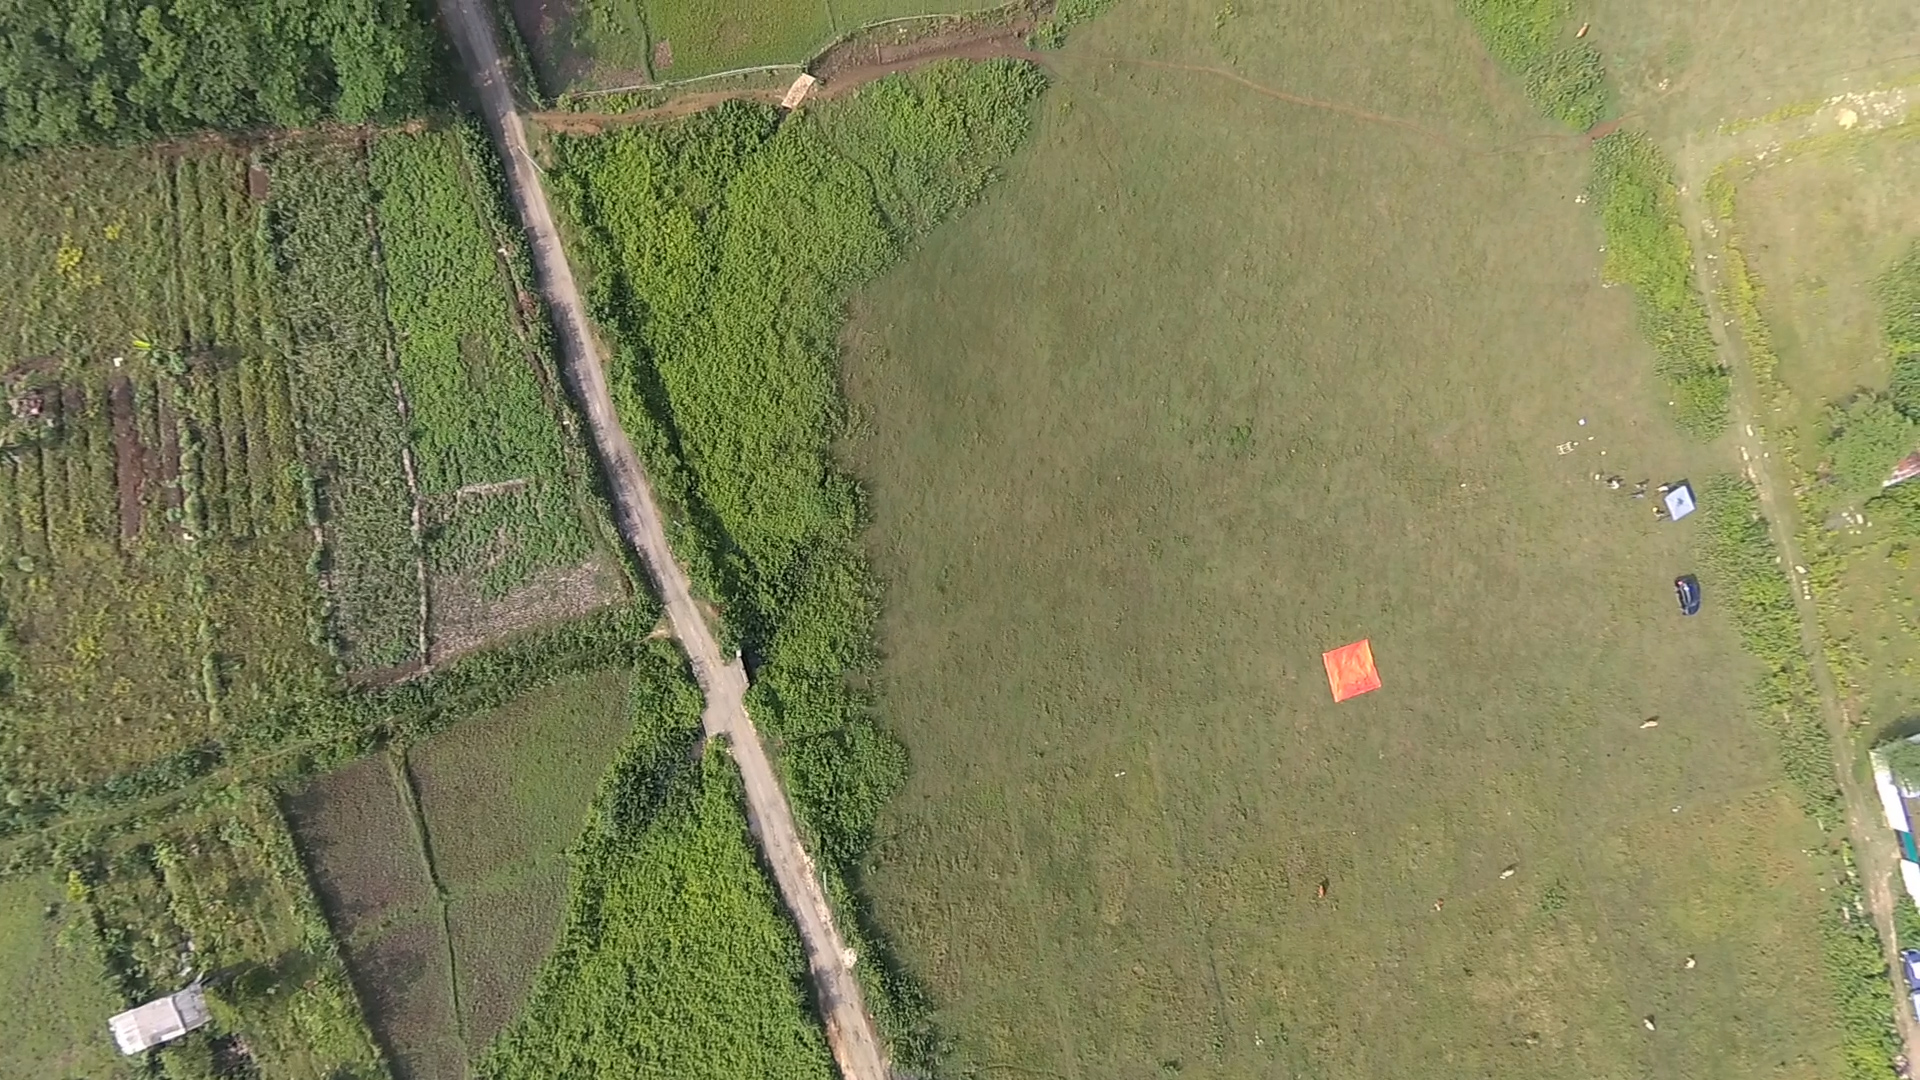Orange Dropzone: (1320, 636, 1385, 705)
